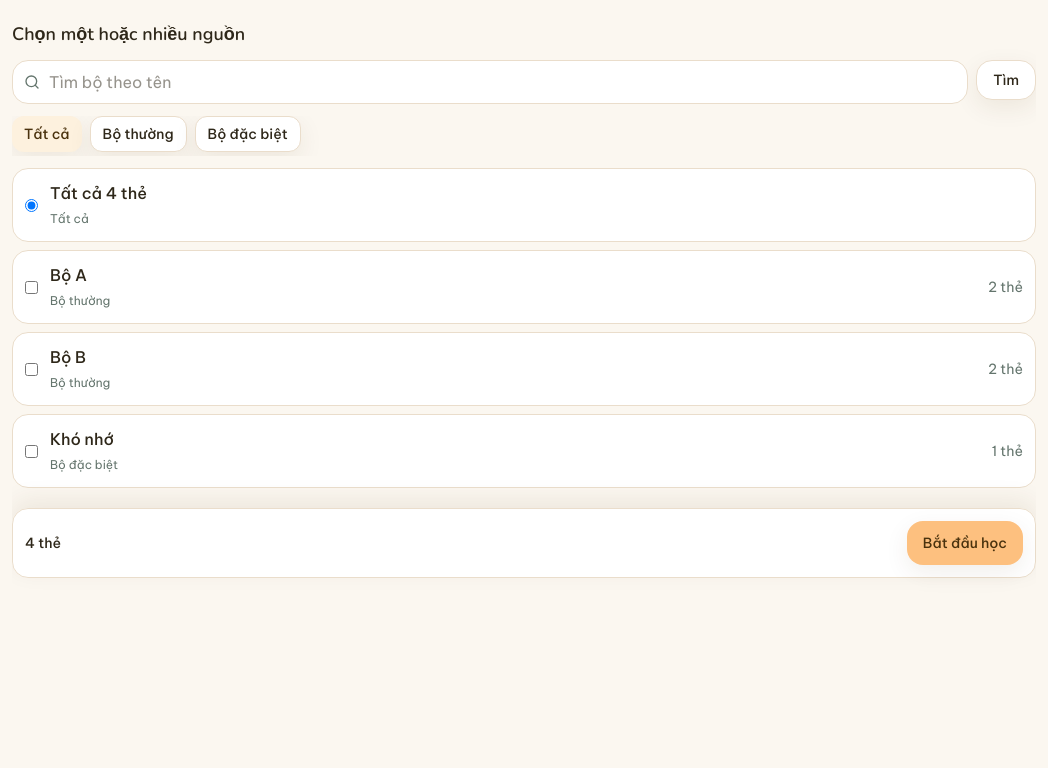
it: StudySourceSelect › shows an immediate single-source count when one source is selected
Click the checkbox labelled "Bộ A Bộ thường 2 thẻ": [32, 287] box left=25, top=280, right=38, bottom=294
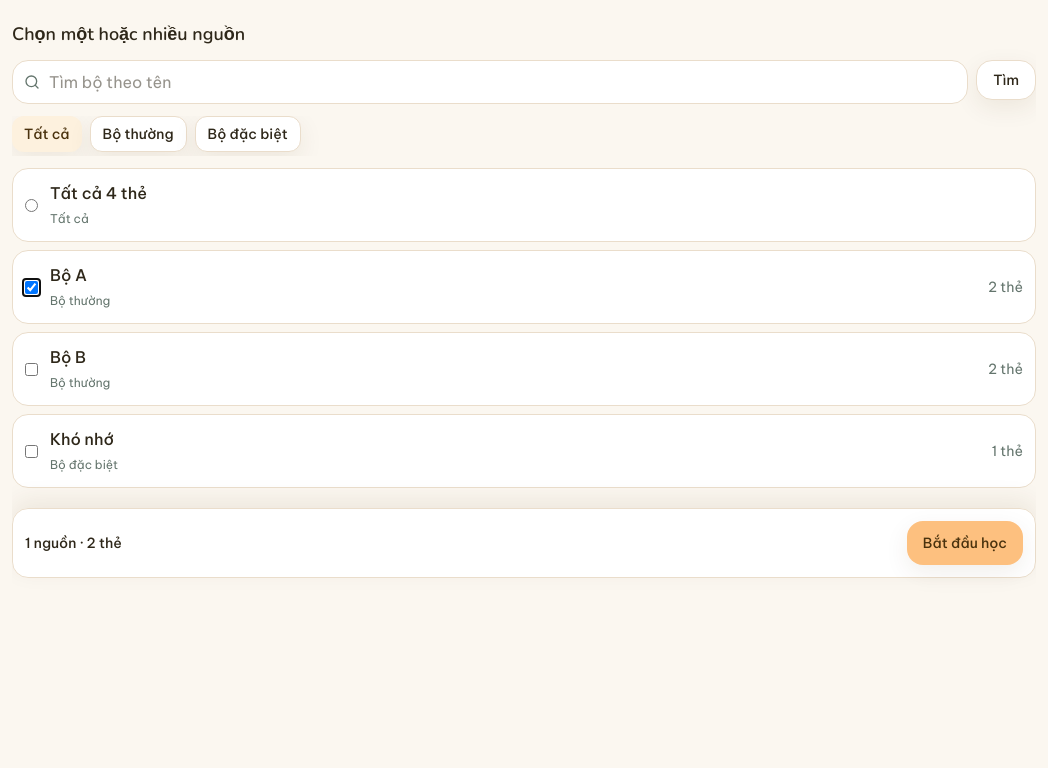
Check: the button "Bắt đầu học" is enabled, box left=907, top=521, right=1023, bottom=565
Check: the text "1 nguồn · 2 thẻ" is shown, box left=25, top=533, right=122, bottom=553
